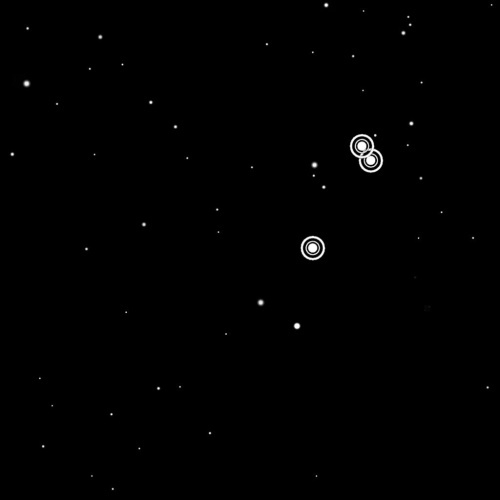canis_minor: (295, 127, 392, 269)
